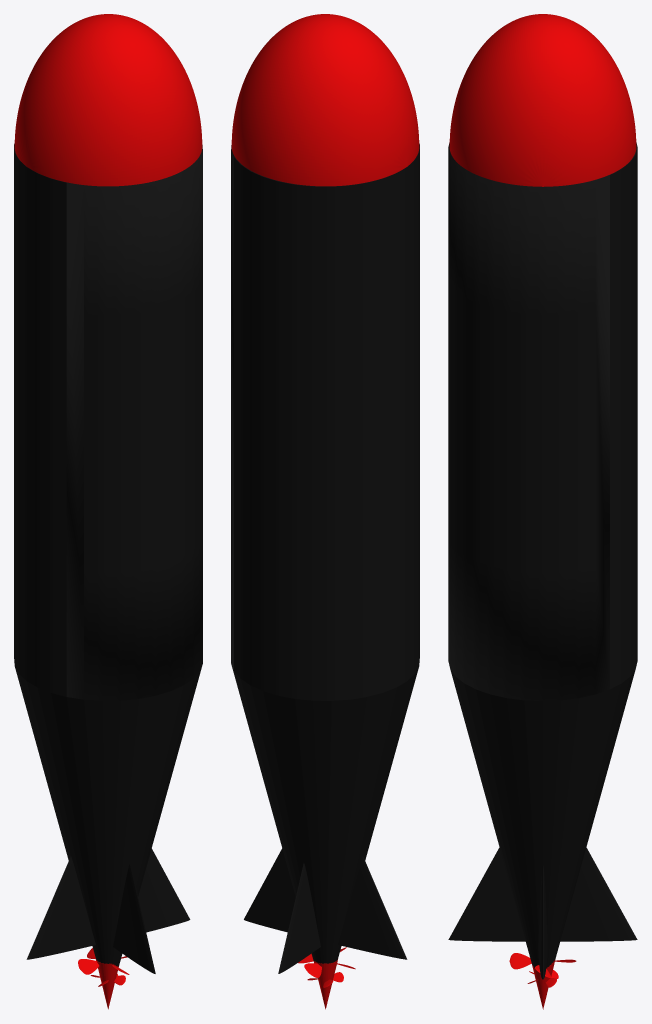
The model's file is TorpedoV01.fbx.
3 views of the same model, side by side, from view 1: azimuth 30°, elevation 25°; view 2: azimuth 150°, elevation 25°; view 3: azimuth 270°, elevation 25° (orthographic).
Parts seen in each view (by area): view 1: Torpedo, TorpedoProp; view 2: Torpedo, TorpedoProp; view 3: Torpedo, TorpedoProp.
Boxes of the visible parts, box(x1,y1,x2,y2) form: Torpedo: box(14, 14, 202, 973); TorpedoProp: box(78, 948, 129, 1009); Torpedo: box(231, 14, 419, 973); TorpedoProp: box(298, 947, 355, 1009); Torpedo: box(448, 14, 637, 979); TorpedoProp: box(509, 953, 576, 1009).
Size of the model in its own units: 600 by 3465 by 600.
